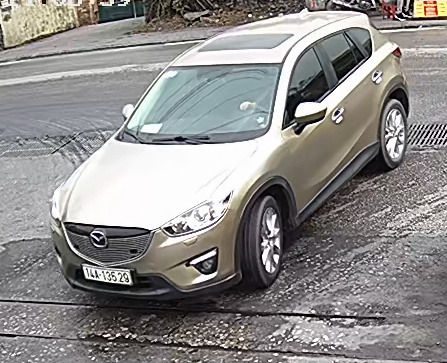vehicle plate: (82, 262, 139, 285)
